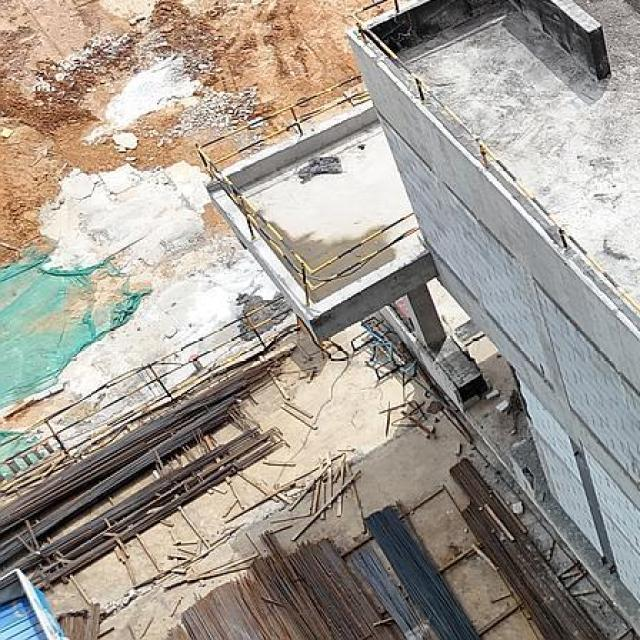Guardrail: (348, 0, 640, 327), (0, 294, 293, 487), (194, 71, 420, 306)
